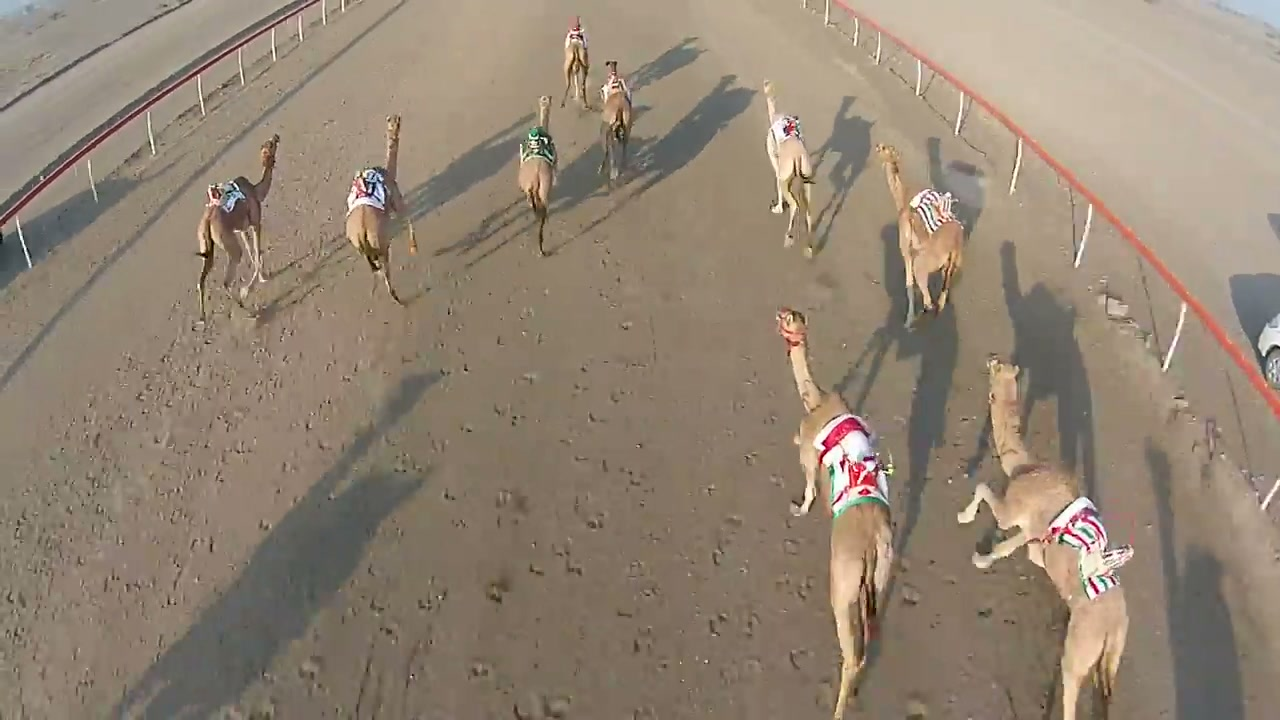animal_footprint: (440, 220, 649, 693), (224, 273, 484, 537)
